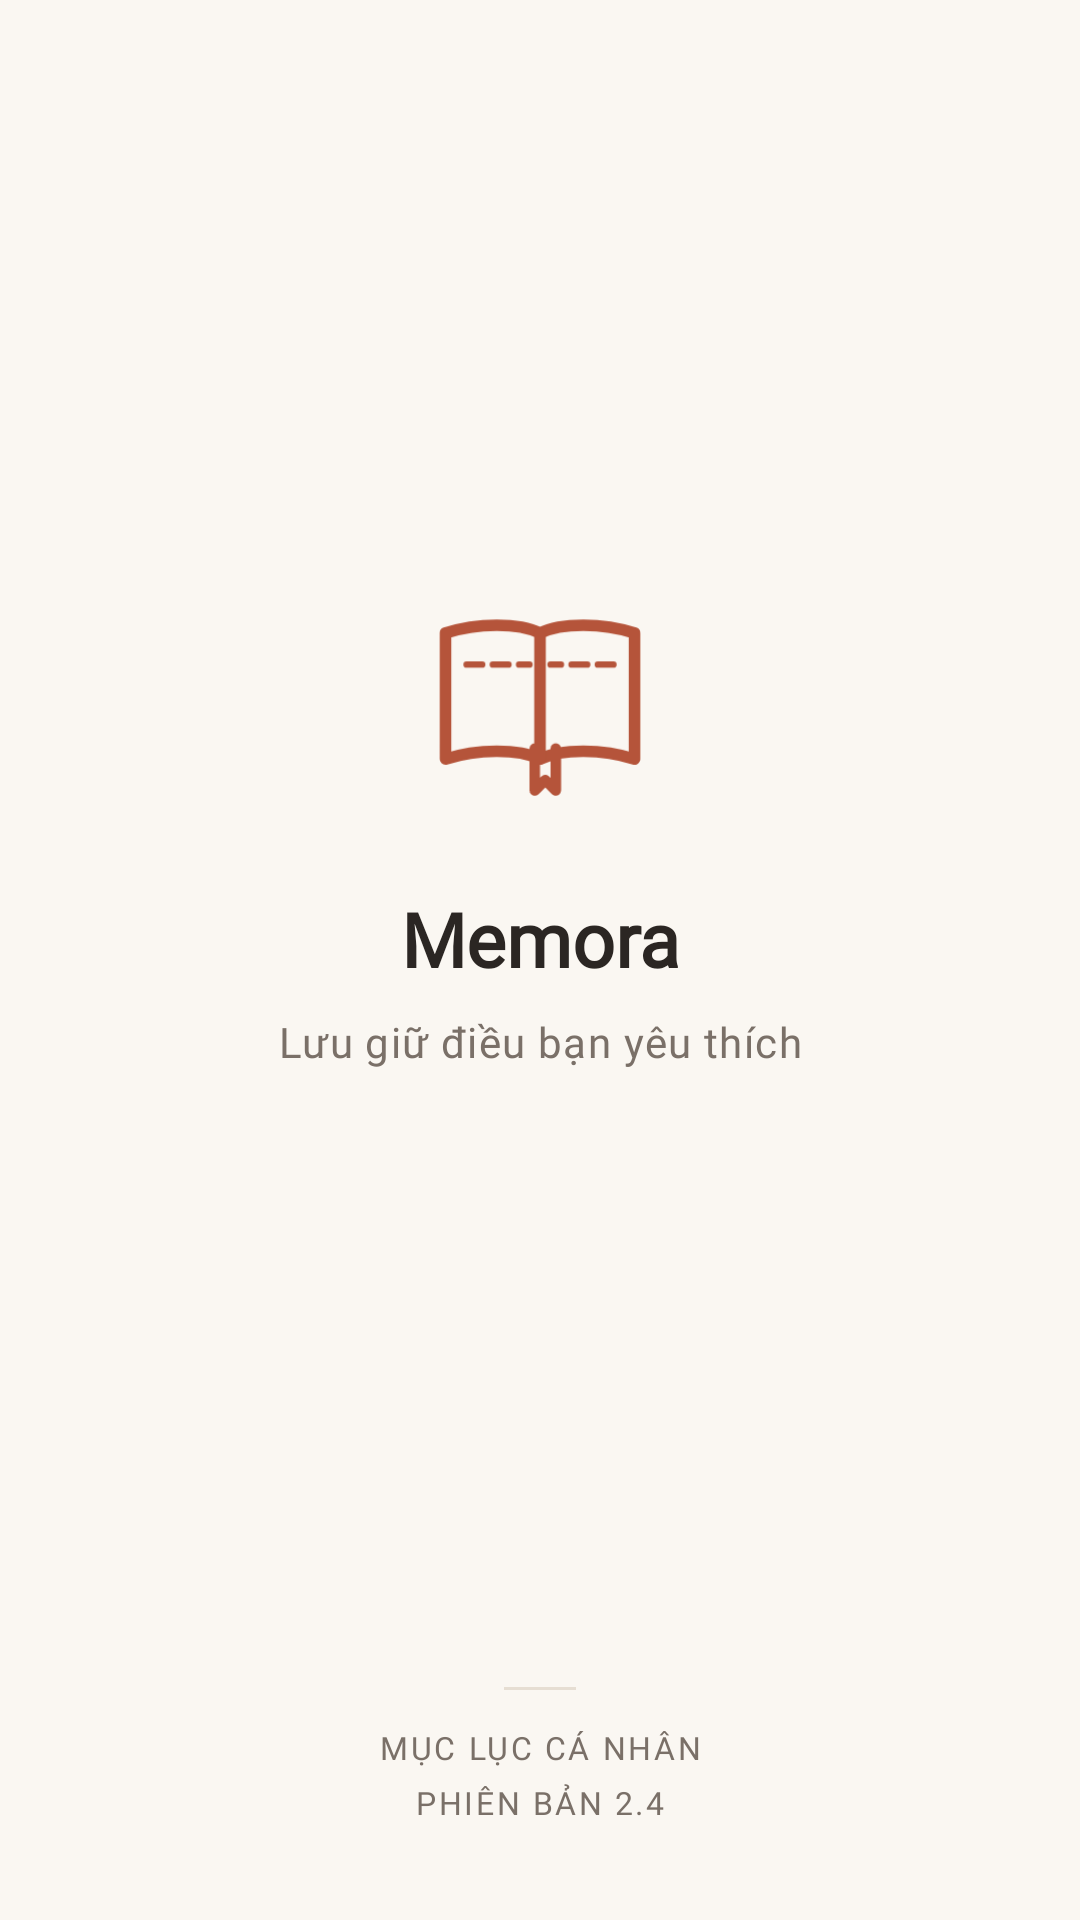

Icon bounding boxes for this 1080 x 1920 phone screenshot, format (x1=x1, y1=y1, x2=x2, y2=y2):
notebook open: (x1=439, y1=619, x2=641, y2=796)
